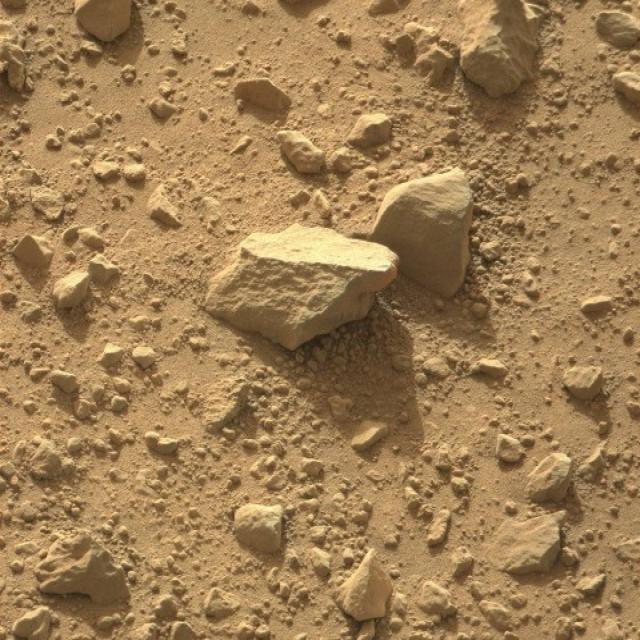rock: (204, 224, 398, 356), (367, 167, 479, 300)
